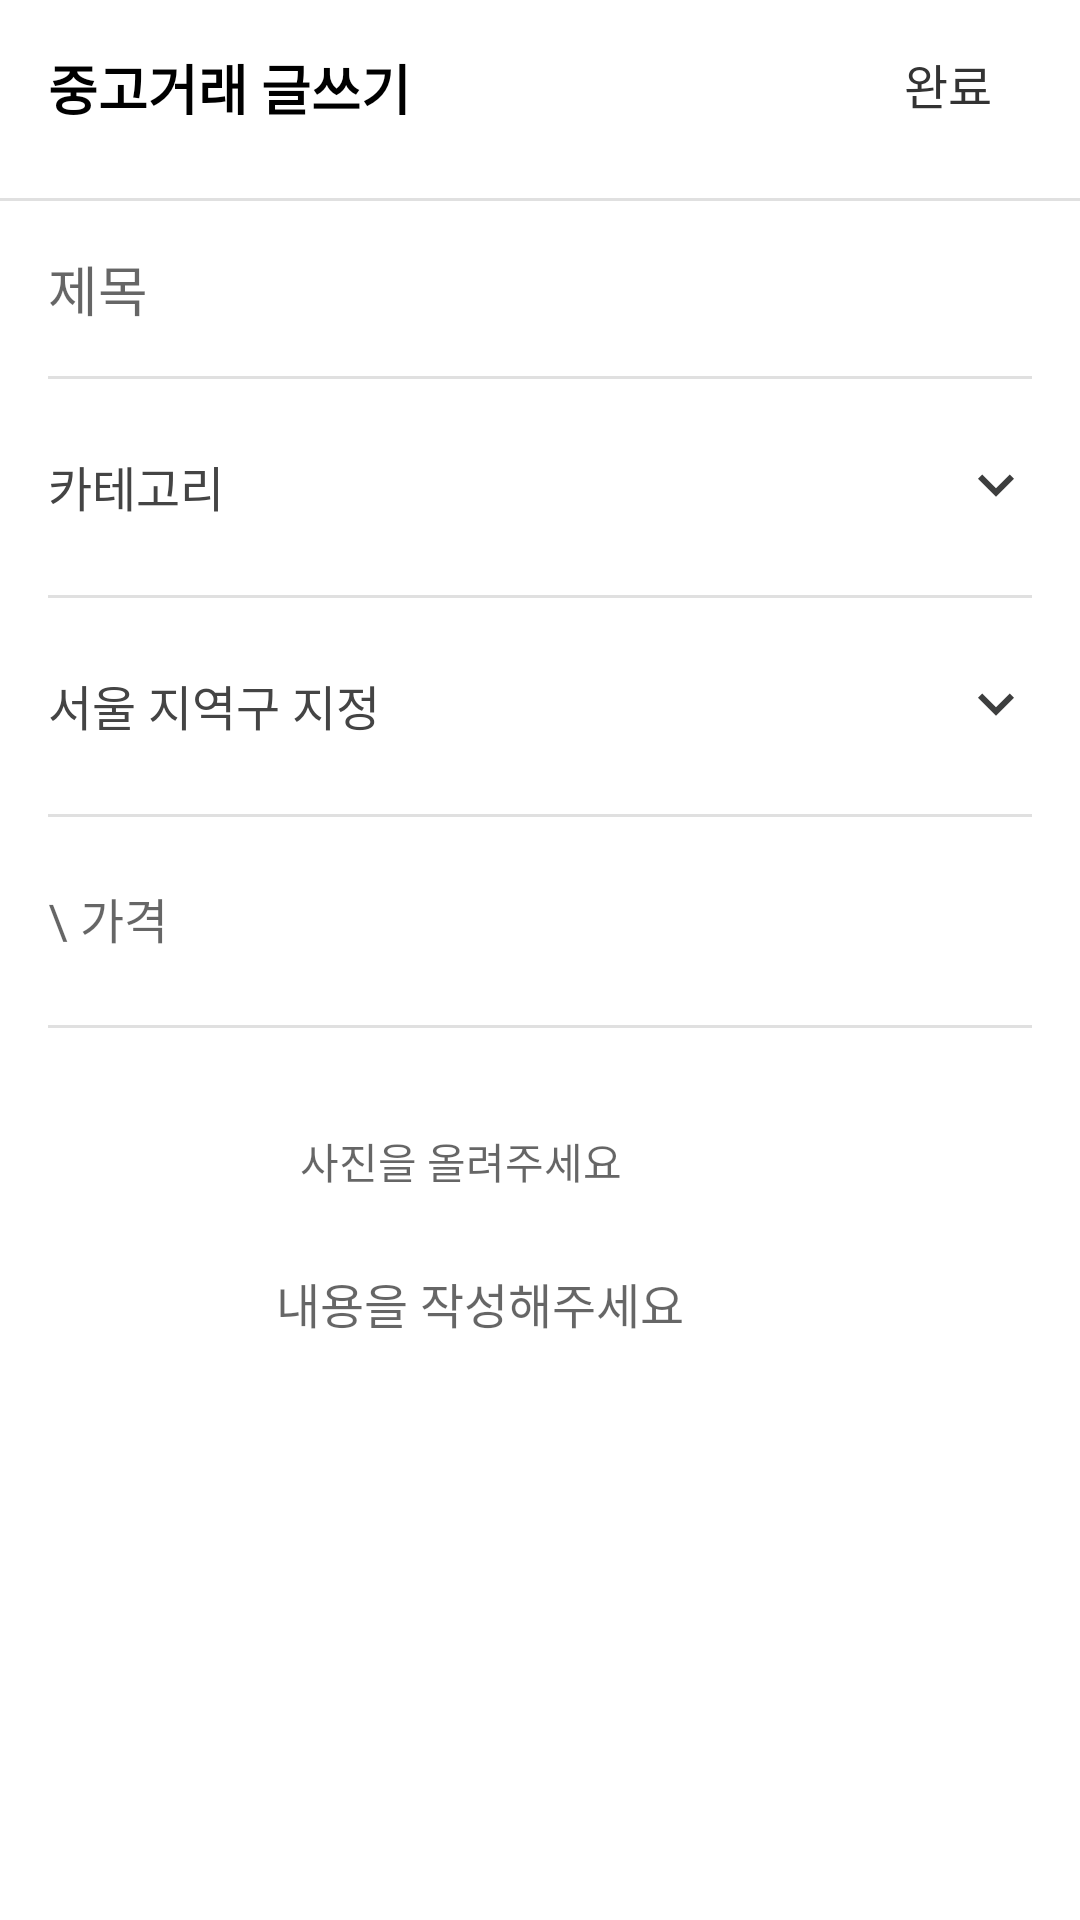

Point at icon controls on the screen. Image size 1080*1920, points as (x=x, y=y).
keyboard arrow down: (x=996, y=485), (x=996, y=704)
